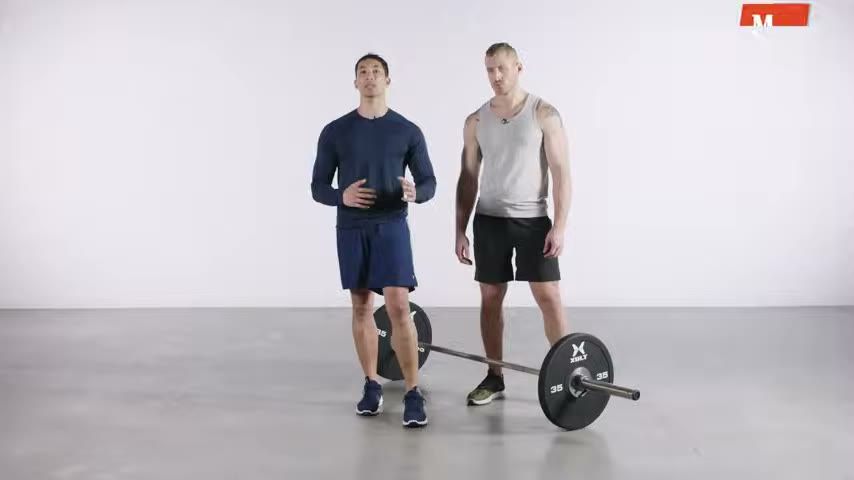barbell_plate_side: (582, 331, 642, 442)
